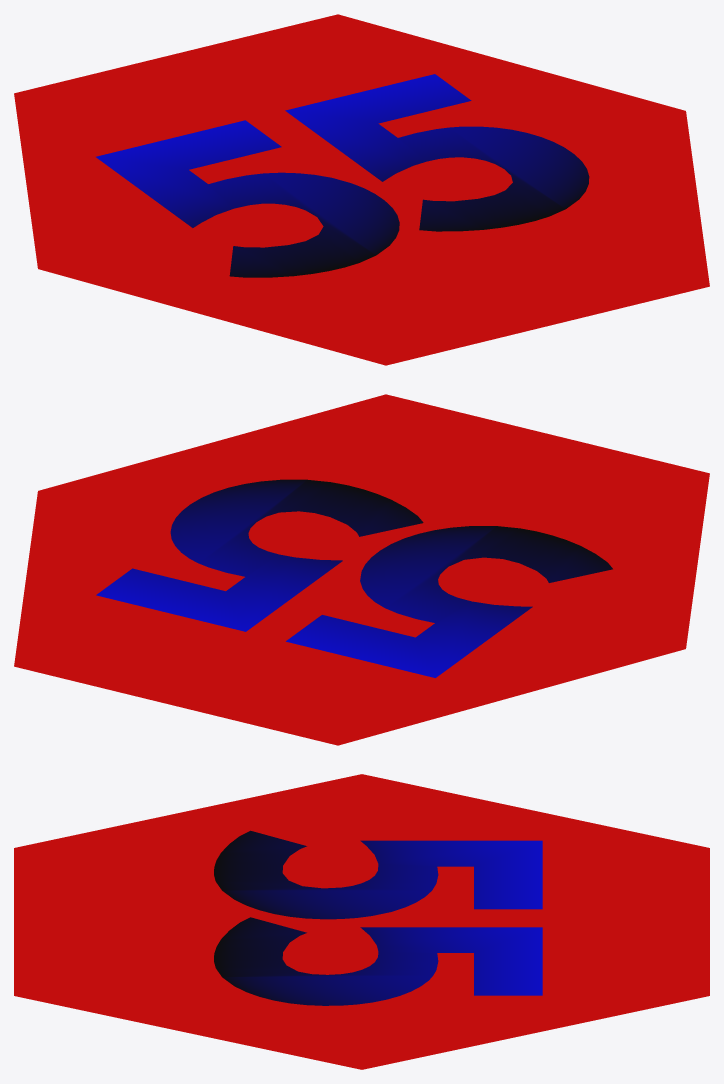
File: SM_Number_55.fbx
The picture shows the model from 3 angles, top to bottom: view 1: azimuth 30°, elevation 25°; view 2: azimuth 150°, elevation 25°; view 3: azimuth 270°, elevation 25°; orthographic projection. The views are drawn at different scales.
Parts seen in each view (by area): view 1: FBX_OUT; view 2: FBX_OUT; view 3: FBX_OUT.
Part boxes in pixels (left/top/right/bottom): FBX_OUT: left=14, top=14, right=709, bottom=365; FBX_OUT: left=14, top=394, right=709, bottom=745; FBX_OUT: left=14, top=774, right=709, bottom=1069.
Bounding box in the file's own units: 50 × 0.2917 × 49.71.
